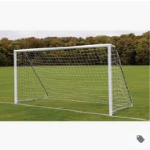goals: (12, 43, 134, 116)
